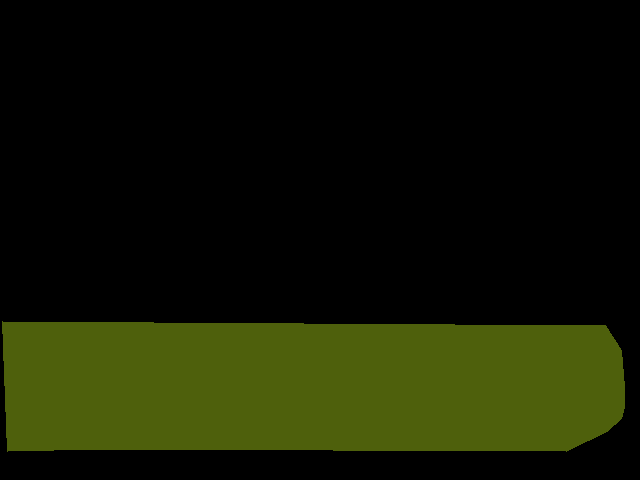Train: (2, 321, 625, 451)
